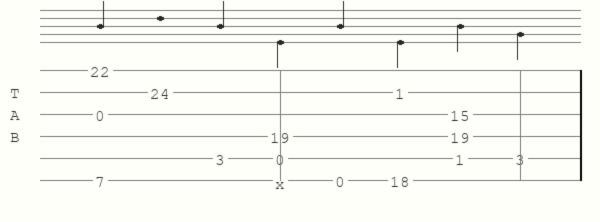0: (95, 107, 109, 121), (275, 151, 289, 165), (335, 173, 349, 187)
1: (395, 85, 409, 99), (455, 151, 469, 165)
15: (450, 107, 474, 121)
18: (390, 173, 414, 187)
19: (270, 129, 294, 143), (450, 129, 474, 143)
22: (90, 63, 114, 77)
24: (150, 85, 174, 99)
3: (215, 151, 229, 165), (515, 151, 529, 165)
7: (95, 173, 109, 187)
x: (275, 175, 289, 186)
